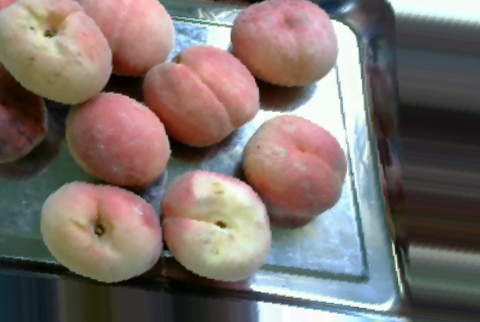Peach: (39, 181, 163, 284), (161, 171, 272, 283), (141, 44, 259, 147), (0, 1, 116, 104), (241, 113, 346, 221), (65, 90, 171, 189), (231, 0, 340, 87), (80, 0, 175, 80)
